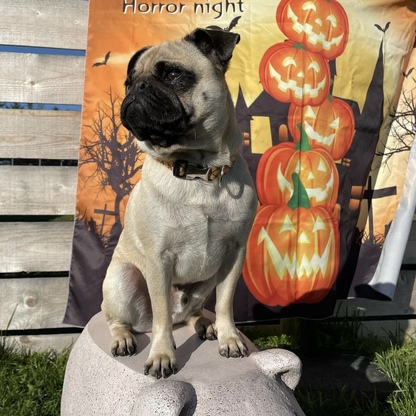Pug: (99, 24, 261, 382)
